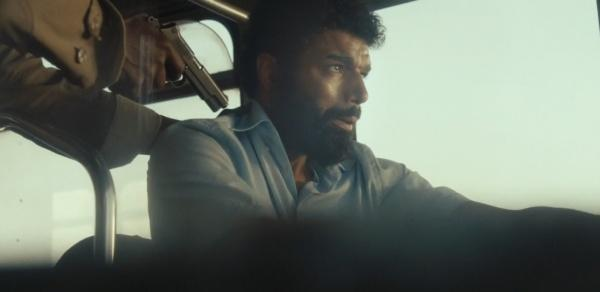Gun: (157, 18, 230, 114)
